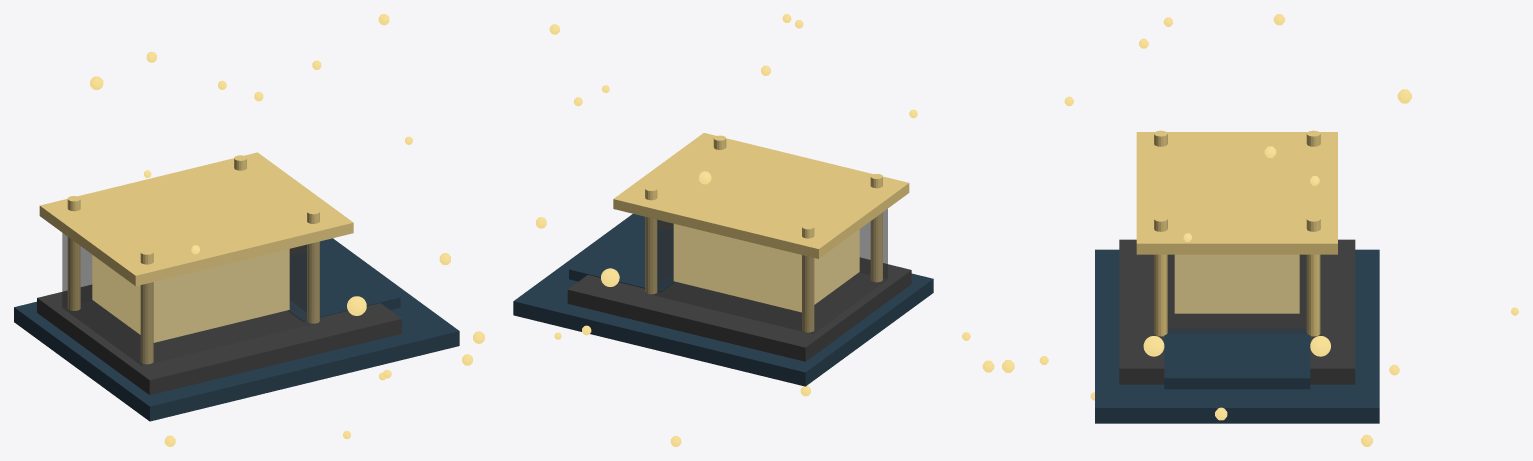
The model's file is str_bubble.glb.
3 views of the same model, side by side, from view 1: azimuth 30°, elevation 25°; view 2: azimuth 150°, elevation 25°; view 3: azimuth 270°, elevation 25° (orthographic). The views are drawn at different scales.
Parts seen in each view (by area): view 1: Cube.004, Cube.002, Cube.001, Cube, Cube.003, Cube.005, Cylinder, Cylinder.002, Cylinder.001; view 2: Cube.004, Cube.002, Cube.001, Cube, Cube.003, Cube.005, Cylinder.001, Cylinder.003, Cylinder; view 3: Cube.004, Cube, Cube.001, Cube.002, Cube.005, Cube.003, Cylinder.003, Cylinder.002.
Part boxes in pixels (box(x1,y1,x2,y2)): Cube.004: box(39, 152, 353, 286); Cube.002: box(62, 233, 319, 365); Cube.001: box(37, 246, 401, 394); Cube: box(14, 238, 459, 421); Cube.003: box(92, 249, 289, 342); Cube.005: box(288, 246, 400, 321); Cylinder: box(140, 249, 153, 364); Cylinder.002: box(307, 208, 319, 323); Cylinder.001: box(67, 196, 80, 310); Cube.004: box(613, 133, 909, 258); Cube.002: box(645, 209, 887, 333); Cube.001: box(567, 221, 911, 361); Cube: box(513, 214, 933, 386); Cube.003: box(673, 224, 859, 312); Cube.005: box(569, 221, 674, 292); Cylinder.001: box(802, 224, 814, 332); Cylinder.003: box(645, 186, 657, 294); Cylinder: box(870, 174, 882, 282); Cube.004: box(1136, 132, 1337, 254); Cube: box(1095, 249, 1379, 423); Cube.001: box(1119, 239, 1355, 384); Cube.002: box(1154, 255, 1320, 334); Cube.005: box(1164, 328, 1310, 389); Cube.003: box(1174, 254, 1299, 313); Cylinder.003: box(1306, 215, 1320, 336); Cylinder.002: box(1154, 216, 1167, 336).
Bounding box in the file's own units: 1.26 × 1.3 × 1.6.
